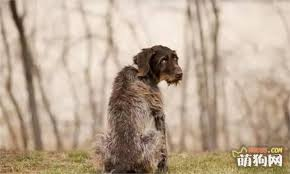dog: (154, 52, 183, 88)
